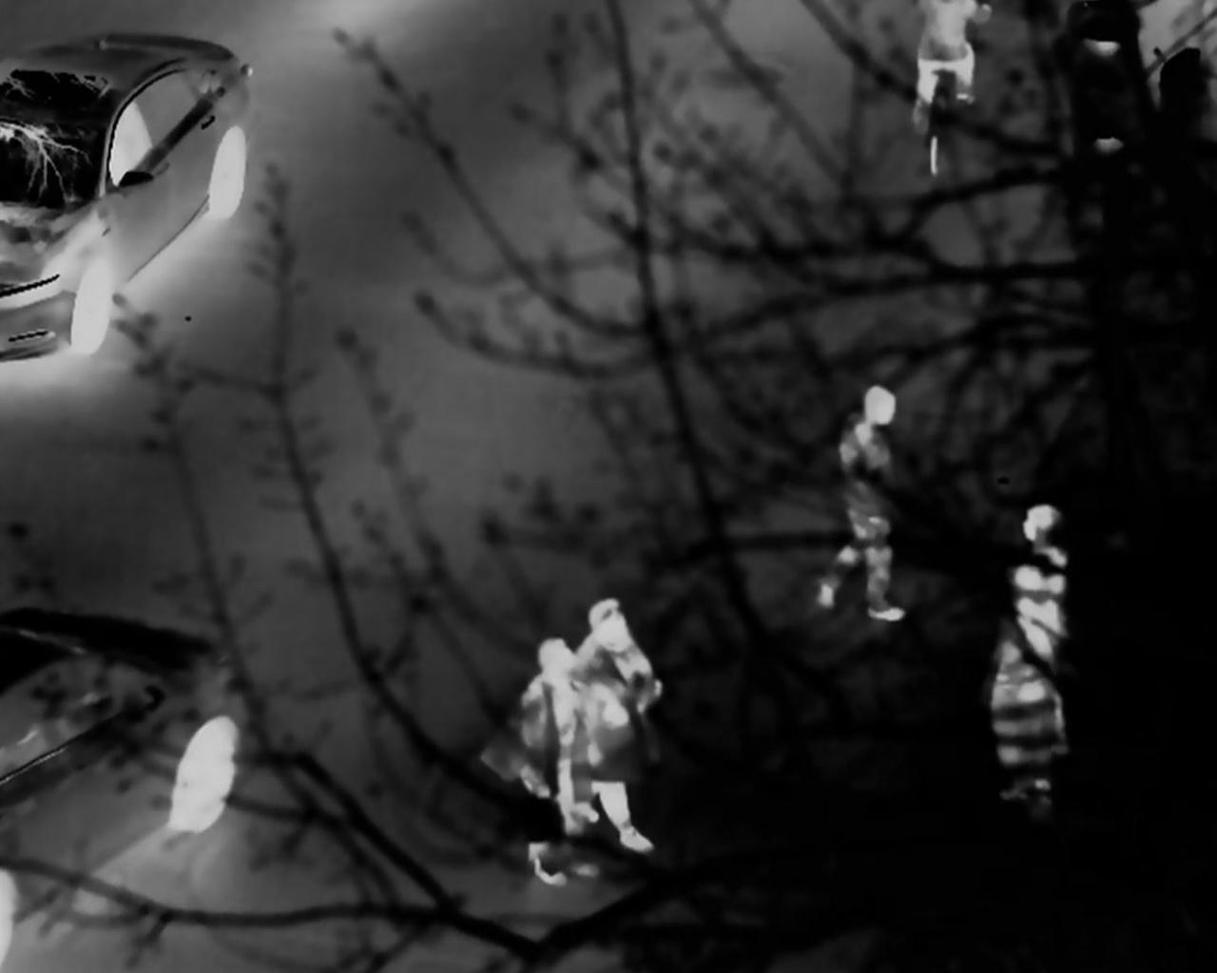person: (564, 601, 670, 856), (1000, 506, 1082, 784), (822, 378, 908, 612), (516, 642, 591, 887), (898, 5, 978, 169)
